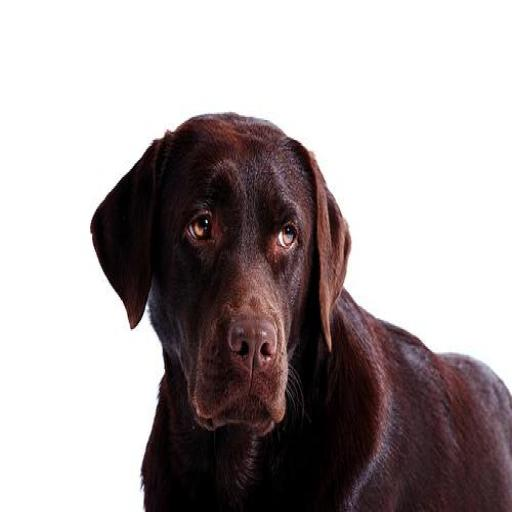dog_face: (92, 108, 354, 427)
